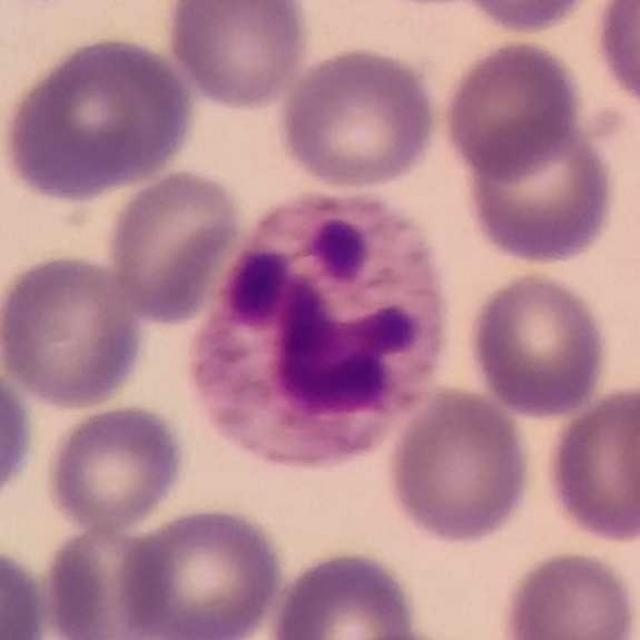Neutrophil: (196, 175, 458, 457)
RBC: (0, 31, 199, 203), (453, 115, 622, 268), (382, 383, 535, 549), (274, 44, 442, 192), (0, 249, 150, 410), (113, 502, 287, 640), (101, 165, 248, 327), (463, 267, 613, 421), (438, 36, 586, 182), (40, 401, 190, 536), (161, 0, 314, 112), (540, 380, 640, 548), (266, 544, 423, 640), (48, 534, 184, 640), (497, 546, 640, 640), (450, 0, 608, 37), (0, 361, 38, 514), (590, 0, 640, 116), (0, 541, 53, 640)
